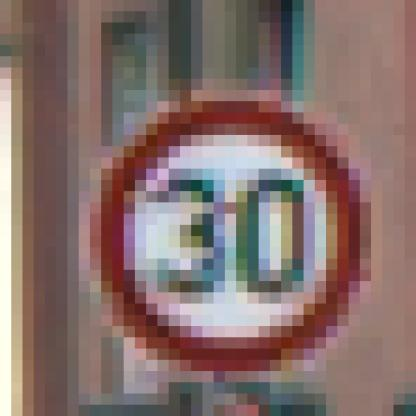Speed Limit 30: (101, 104, 364, 371)
